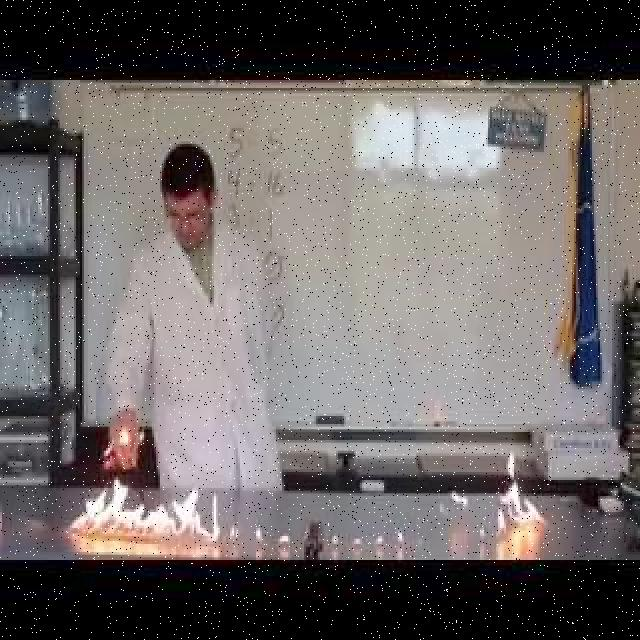fire: (83, 482, 216, 552), (494, 463, 541, 539)
